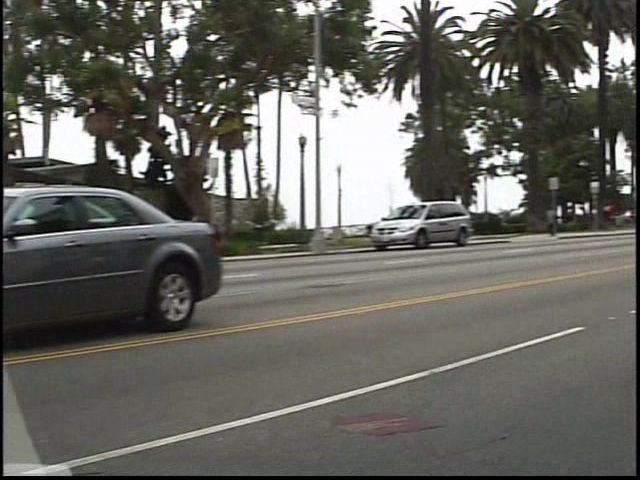person: (550, 200, 572, 240)
